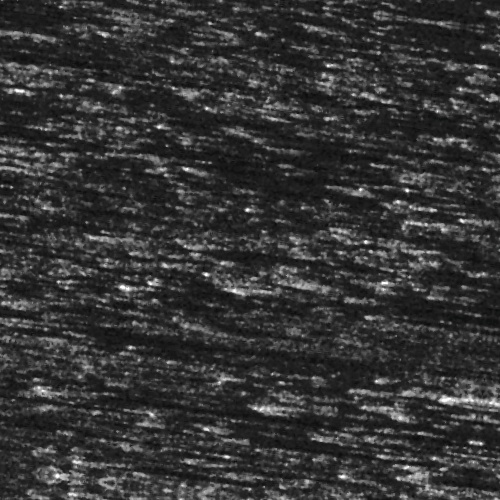object: (174, 278, 341, 297), (0, 342, 124, 357), (228, 394, 363, 407), (103, 249, 218, 258), (373, 223, 478, 232), (423, 364, 500, 375), (211, 426, 294, 435), (307, 271, 360, 280), (432, 195, 495, 200), (205, 129, 246, 134), (127, 472, 138, 487), (134, 298, 165, 301), (84, 411, 105, 414)
shadow: (258, 278, 500, 297), (20, 342, 305, 357), (296, 394, 500, 407), (161, 249, 374, 258), (333, 271, 500, 280), (253, 426, 418, 435), (133, 472, 219, 487), (95, 411, 489, 414), (426, 223, 499, 232), (0, 421, 85, 428), (150, 298, 290, 301), (225, 129, 300, 134), (399, 386, 500, 389), (463, 195, 500, 200)
